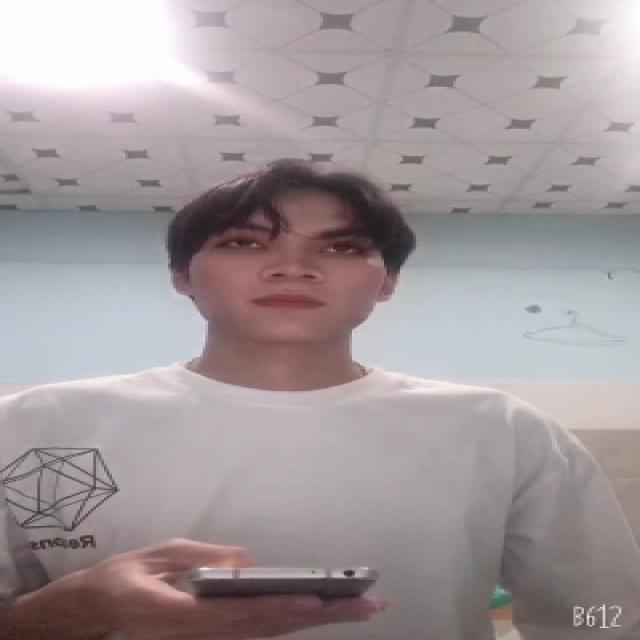Phone: (190, 562, 378, 598)
